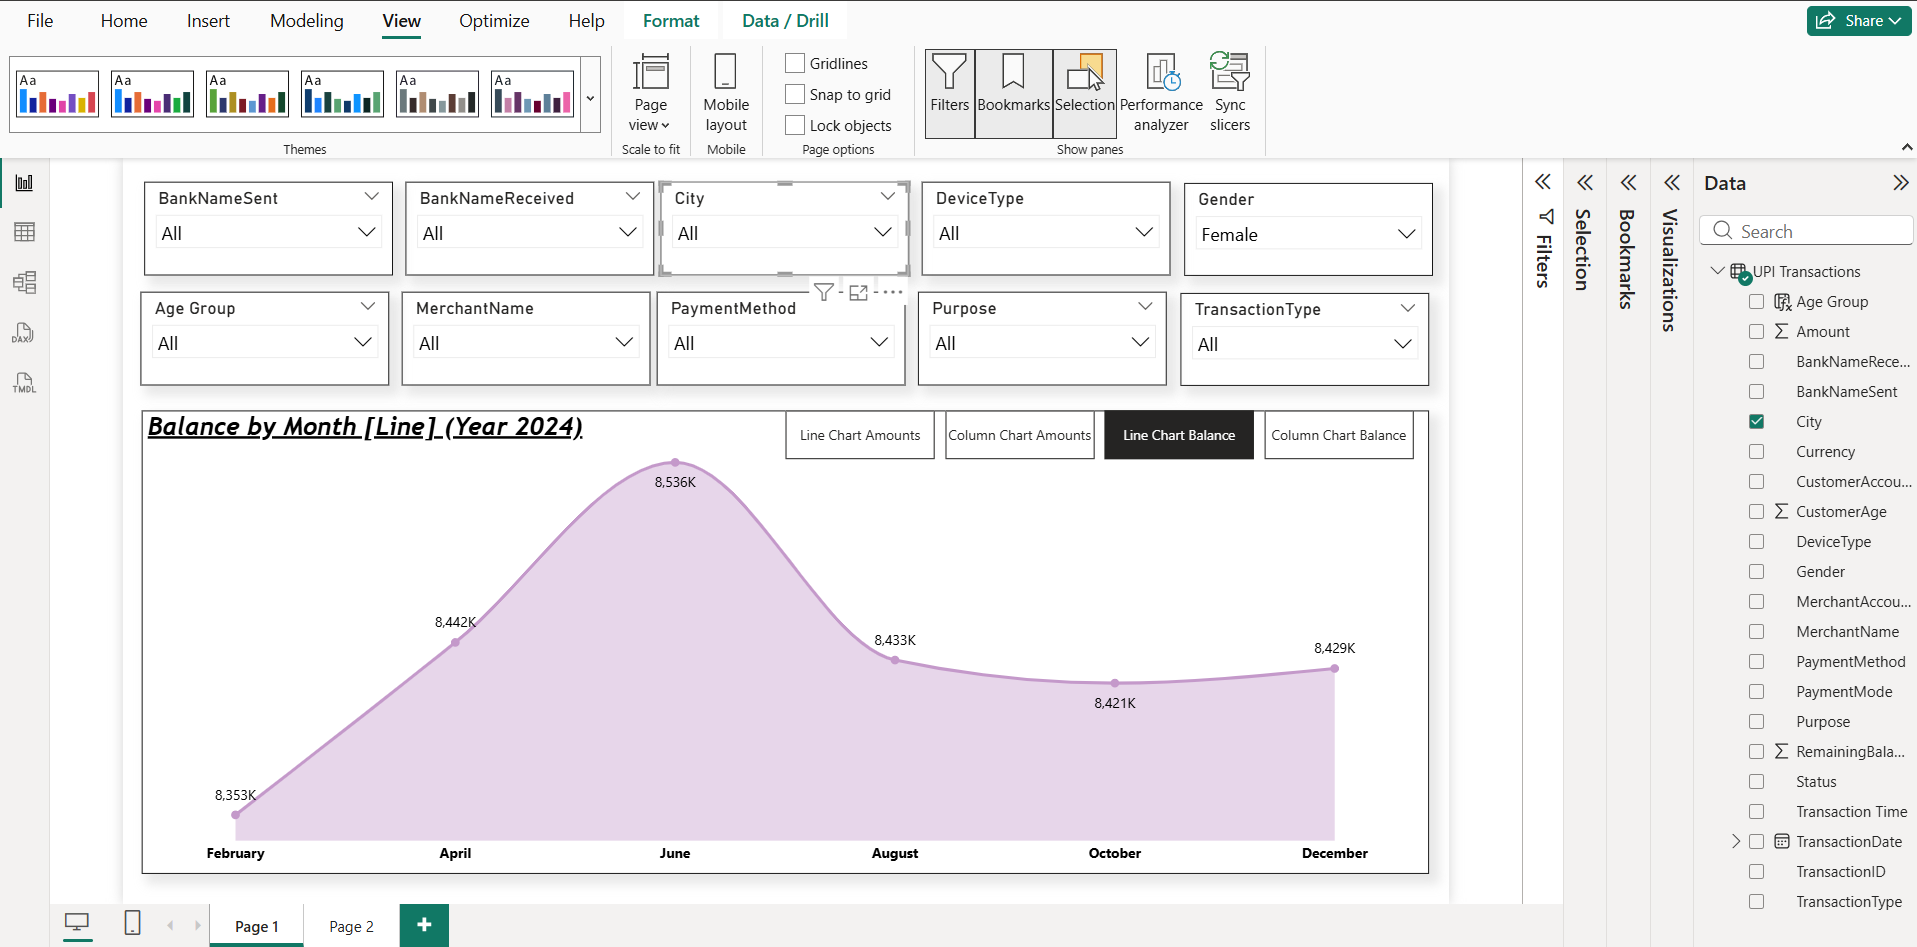

The dashboard page shown, as its layout file describes it:
{"tool":"powerbi","page":{"name":"Page 1","canvas":[1280,720],"ordinal":0},"visuals":[{"type":"slicer","fields":{"Values":["UPI Transactions.Gender"]},"box":[1024.3,24.1,240.1,89.3],"z":0},{"type":"slicer","fields":{"Values":["UPI Transactions.BankNameReceived"]},"box":[272.7,22.9,240.1,90.5],"z":1000},{"type":"slicer","fields":{"Values":["UPI Transactions.City"]},"box":[518.8,22.9,240.1,90.5],"z":2000},{"type":"slicer","fields":{"Values":["UPI Transactions.DeviceType"]},"box":[770.9,22.9,240.1,90.5],"z":3000},{"type":"slicer","fields":{"Values":["UPI Transaction.BankNameSent"]},"box":[20.5,22.9,240.1,90.5],"z":4000},{"type":"slicer","fields":{"Values":["UPI Transactions.TransactionType"]},"box":[1020.8,130.6,240.1,89.3],"z":5000},{"type":"slicer","fields":{"Values":["UPI Transactions.MerchantName"]},"box":[269.1,129.4,240.1,90.5],"z":6000},{"type":"slicer","fields":{"Values":["UPI Transactions.PaymentMethod"]},"box":[515.3,129.4,240.1,90.5],"z":7000},{"type":"slicer","fields":{"Values":["UPI Transactions.Purpose"]},"box":[767.4,129.4,240.1,90.5],"z":8000},{"type":"slicer","fields":{"Values":["UPI Transactions.Age Group"]},"box":[17,129.4,240.1,90.5],"z":9000},{"type":"lineChart","title":"Balance by Month [Line] (Year 2024)","fields":{"Category":["UPI Transactions.TransactionDate.Variation.Date Hierarchy.Month"],"Y":["Sum(UPI Transactions.RemainingBalance)"]},"box":[18.1,243.7,1242.6,447.6],"z":14000},{"type":"bookmarkNavigator","box":[639.4,243.7,608,47.1],"z":15500}]}

Visuals, with their boxes on the page's 1280x720 design canvas (x1, y1, x2, y2). These are canvas units, not pixel positions in the 1917x947 screenshot, which may show the page scaled, cropped or inside an application window:
slicer - UPI Transactions.Gender: rect(1024, 24, 1264, 113)
slicer - UPI Transactions.BankNameReceived: rect(273, 23, 513, 113)
slicer - UPI Transactions.City: rect(519, 23, 759, 113)
slicer - UPI Transactions.DeviceType: rect(771, 23, 1011, 113)
slicer - UPI Transaction.BankNameSent: rect(20, 23, 261, 113)
slicer - UPI Transactions.TransactionType: rect(1021, 131, 1261, 220)
slicer - UPI Transactions.MerchantName: rect(269, 129, 509, 220)
slicer - UPI Transactions.PaymentMethod: rect(515, 129, 755, 220)
slicer - UPI Transactions.Purpose: rect(767, 129, 1008, 220)
slicer - UPI Transactions.Age Group: rect(17, 129, 257, 220)
"Balance by Month [Line] (Year 2024)" lineChart: rect(18, 244, 1261, 691)
bookmarkNavigator: rect(639, 244, 1247, 291)
